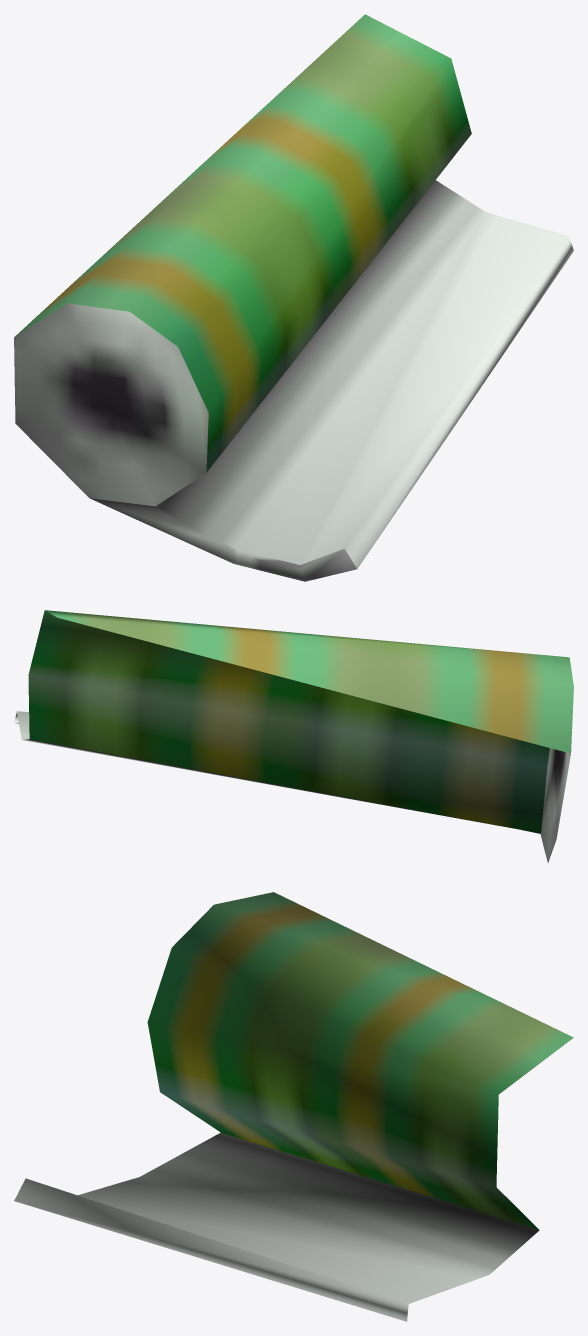
The model's file is fg_wall_out.dae.
The picture shows the model from 3 angles, top to bottom: view 1: azimuth 30°, elevation 25°; view 2: azimuth 150°, elevation 25°; view 3: azimuth 270°, elevation 25°; orthographic projection. The views are drawn at different scales.
Parts seen in each view (by area): view 1: fg_wall_out; view 2: fg_wall_out; view 3: fg_wall_out.
Boxes of the visible parts, bbox=[...] form: fg_wall_out: bbox=[14, 14, 573, 581]; fg_wall_out: bbox=[14, 610, 573, 862]; fg_wall_out: bbox=[14, 892, 573, 1321].
Bounding box in the file's own units: 19.58 × 9.96 × 15.28.
1 material, 1 textured.
